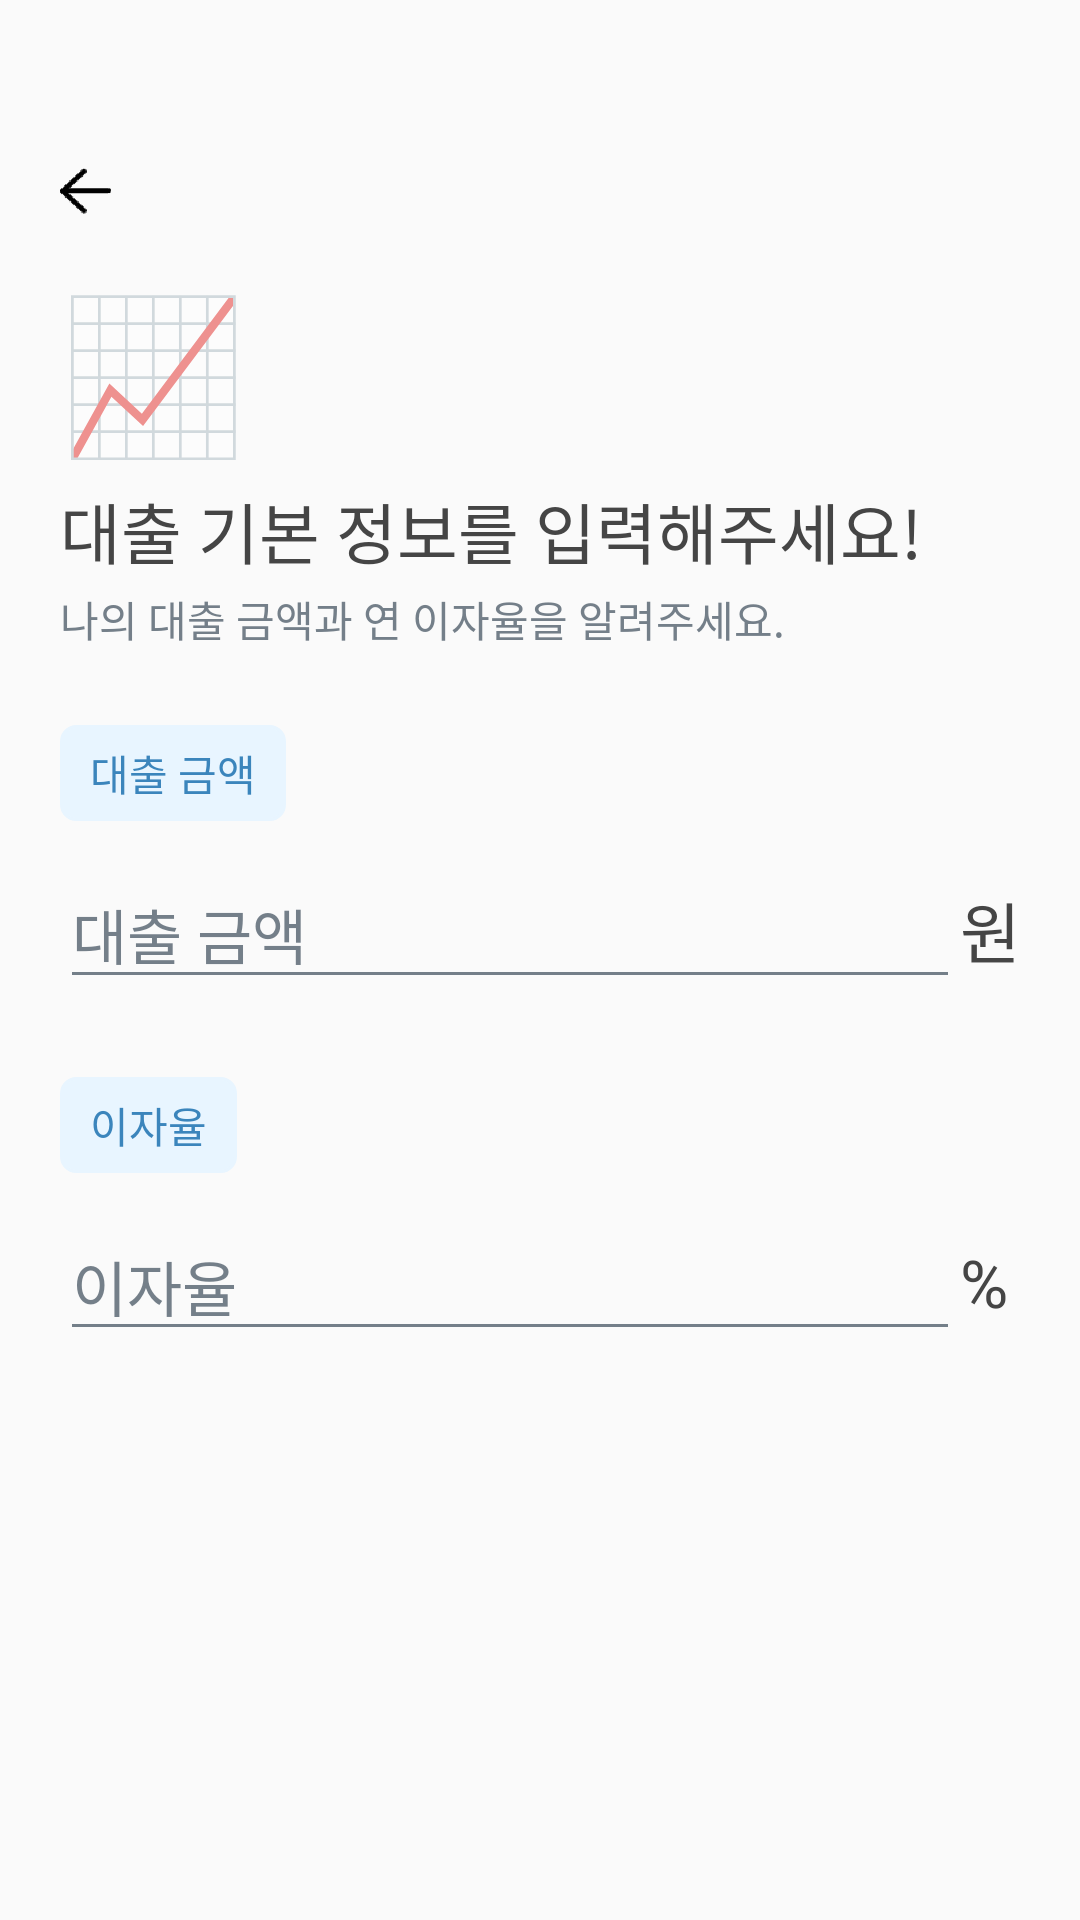

Where icons sit on this 1080x1920 app screen, as [left=x1, top=y1, right=x2, bottom=y2]:
before: [left=60, top=168, right=111, bottom=214]
